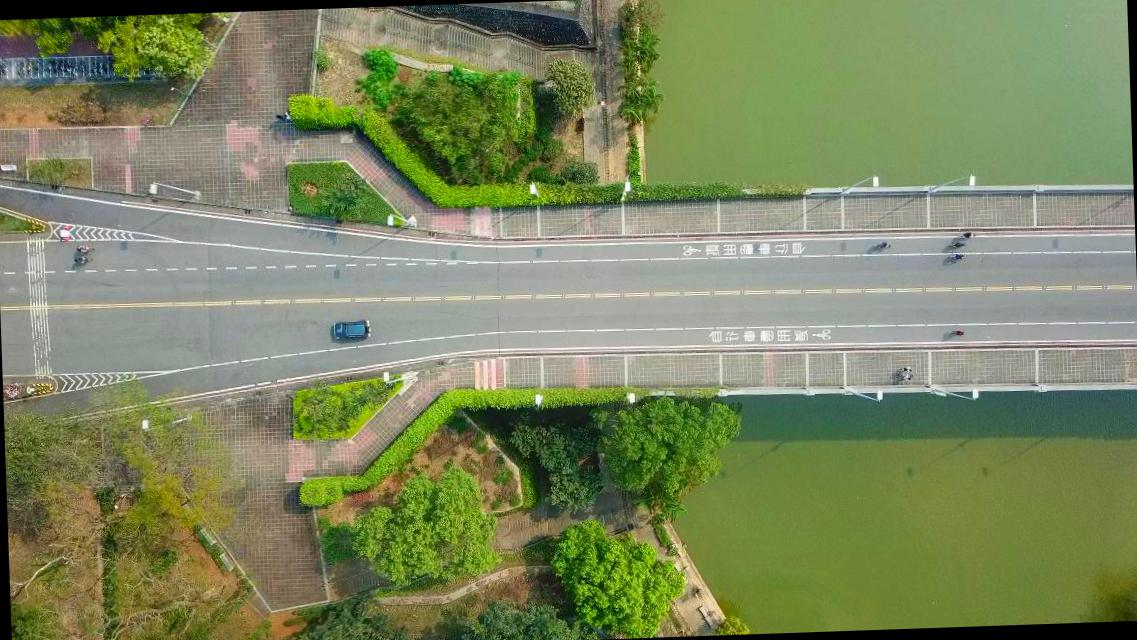vehicle: (332, 320, 370, 340)
